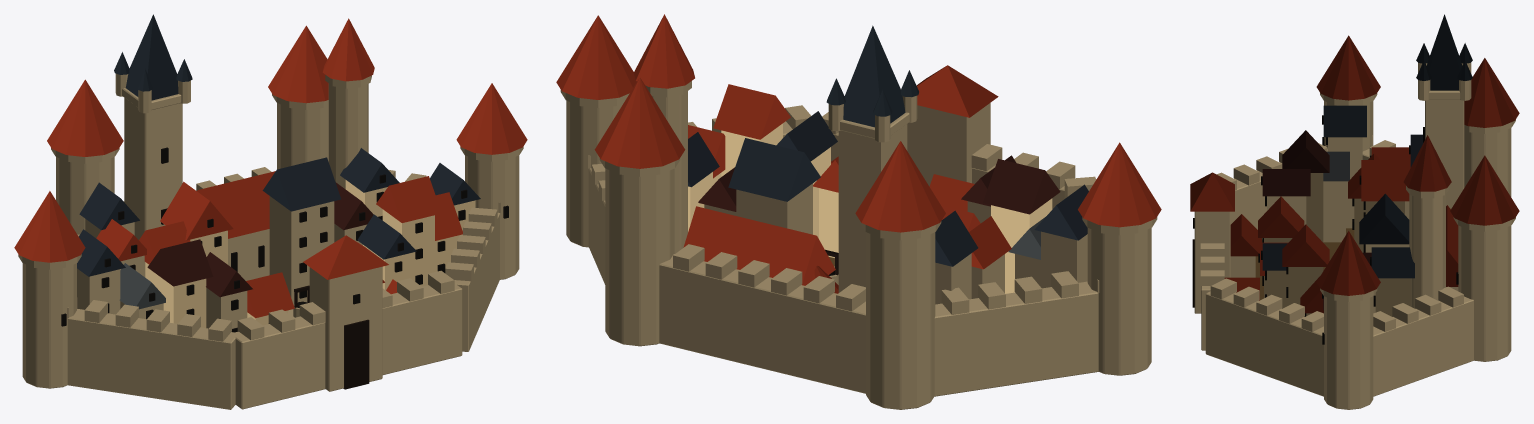
Rendered from settle_3.obj.
3 renders of one model, left to right at view 1: azimuth 30°, elevation 25°; view 2: azimuth 150°, elevation 25°; view 3: azimuth 270°, elevation 25°, orthographic. The views are drawn at different scales.
Parts seen in each view (by area): view 1: core_stone, core_roof_civic, core_roof_slate, core_roof_tile, core_plaster, core_roof_tile_old, core_slate, core_window, core_wood_dark, core_roof_lead; view 2: core_stone, core_roof_civic, core_roof_slate, core_roof_tile, core_plaster, core_roof_tile_old, core_slate, core_roof_lead; view 3: core_stone, core_roof_civic, core_roof_tile, core_roof_slate, core_plaster, core_roof_tile_old, core_slate, core_roof_lead, core_window, core_cloth.
Boxes of the visible parts, x1,y1,x2,y2 form: core_stone: [18, 73, 523, 409]; core_roof_civic: [14, 18, 527, 279]; core_roof_slate: [77, 148, 480, 276]; core_roof_tile: [96, 176, 462, 318]; core_plaster: [145, 180, 475, 327]; core_roof_tile_old: [147, 182, 373, 297]; core_slate: [114, 14, 192, 100]; core_window: [61, 147, 508, 332]; core_wood_dark: [294, 285, 369, 389]; core_roof_lead: [119, 263, 165, 309]; core_stone: [560, 81, 1157, 409]; core_roof_civic: [556, 14, 1161, 293]; core_roof_slate: [688, 111, 1088, 266]; core_roof_tile: [688, 84, 1011, 269]; core_plaster: [688, 123, 1052, 293]; core_roof_tile_old: [698, 155, 1060, 214]; core_slate: [826, 25, 918, 127]; core_roof_lead: [1008, 216, 1046, 259]; core_stone: [1194, 62, 1515, 409]; core_roof_civic: [1190, 35, 1519, 295]; core_roof_tile: [1224, 147, 1410, 313]; core_roof_slate: [1262, 105, 1423, 309]; core_plaster: [1264, 173, 1410, 316]; core_roof_tile_old: [1262, 130, 1371, 266]; core_slate: [1416, 14, 1472, 90]; core_roof_lead: [1323, 151, 1349, 181]; core_window: [1193, 115, 1458, 344]; core_cloth: [1255, 228, 1354, 300].
Size of the model in its own units: 1.87 by 1.02 by 1.17.
